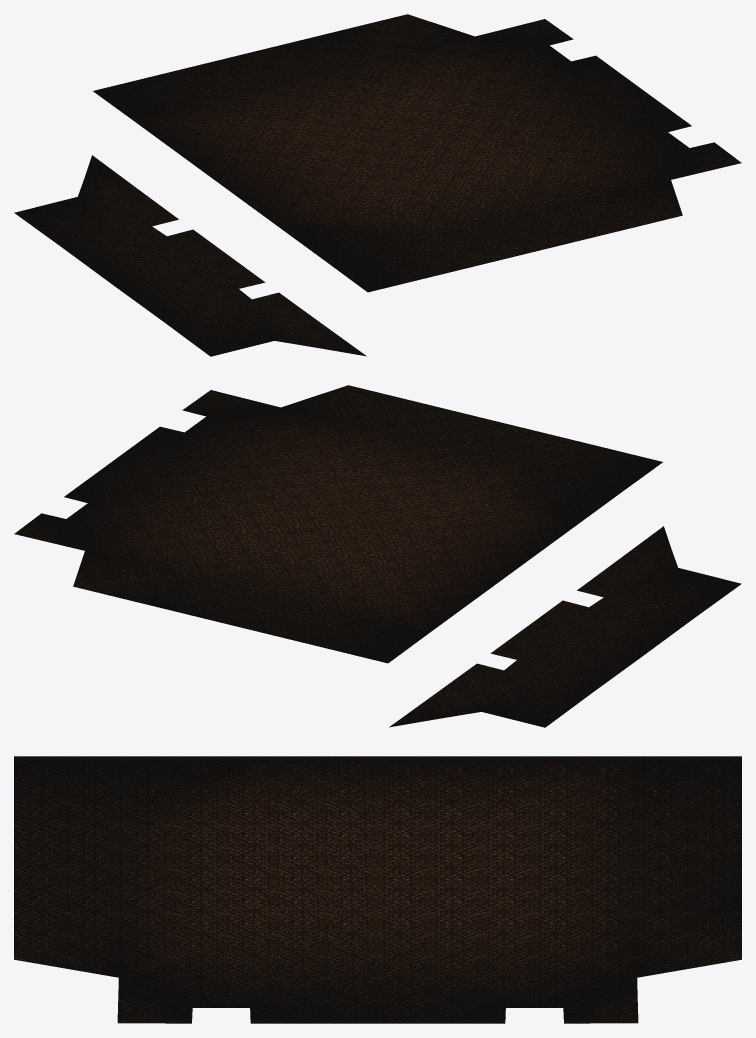
File: test-ceiling-opt.glb
3 views of the same model, one above another, from view 1: azimuth 30°, elevation 25°; view 2: azimuth 150°, elevation 25°; view 3: azimuth 270°, elevation 25° (orthographic). The views are drawn at different scales.
Visible parts, largest first — view 1: ceiling; view 2: ceiling; view 3: ceiling.
Part boxes in pixels (x1,y1,x2,y2): ceiling: (14,14,741,356); ceiling: (14,385,741,727); ceiling: (14,756,741,1023).
Bounding box in the file's own units: 329 × 37.99 × 295.
Materials: 1 (1 with a texture image).
